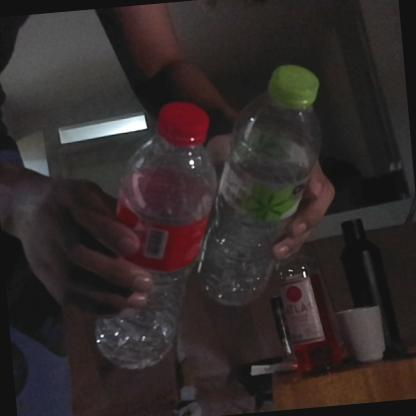plastic_bottles: (69, 96, 236, 376), (177, 62, 338, 306)
